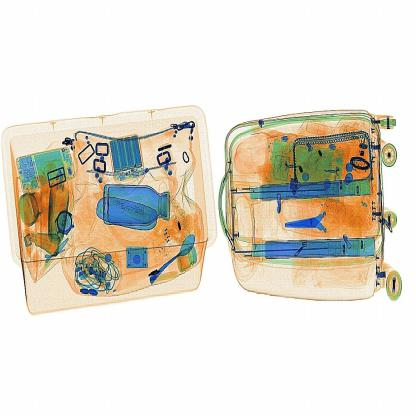gun: (281, 187, 352, 247)
